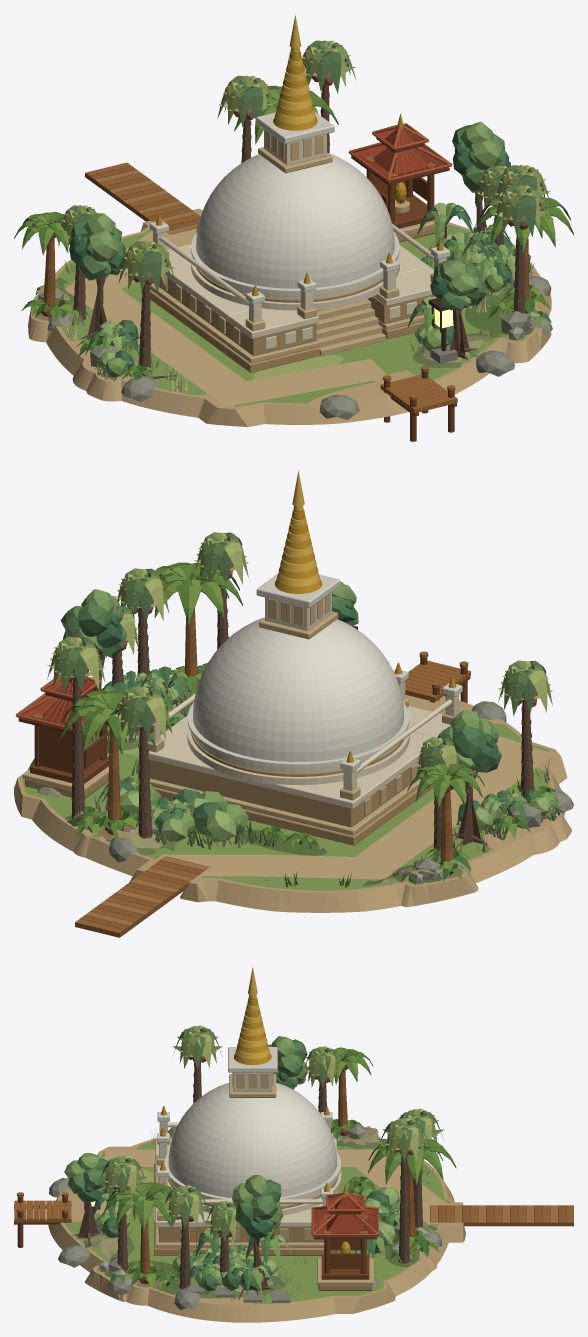
File: simhala.glb
The picture shows the model from 3 angles, top to bottom: view 1: azimuth 30°, elevation 25°; view 2: azimuth 150°, elevation 25°; view 3: azimuth 270°, elevation 25°; orthographic projection. The views are drawn at different scales.
Parts seen in each view (by area): view 1: simhala; view 2: simhala; view 3: simhala.
Part boxes in pixels (x1,y1,x2,y2): simhala: [14, 14, 573, 441]; simhala: [14, 470, 573, 937]; simhala: [14, 966, 573, 1322].
Size of the model in its own units: 5.47 by 3.66 by 6.8.
